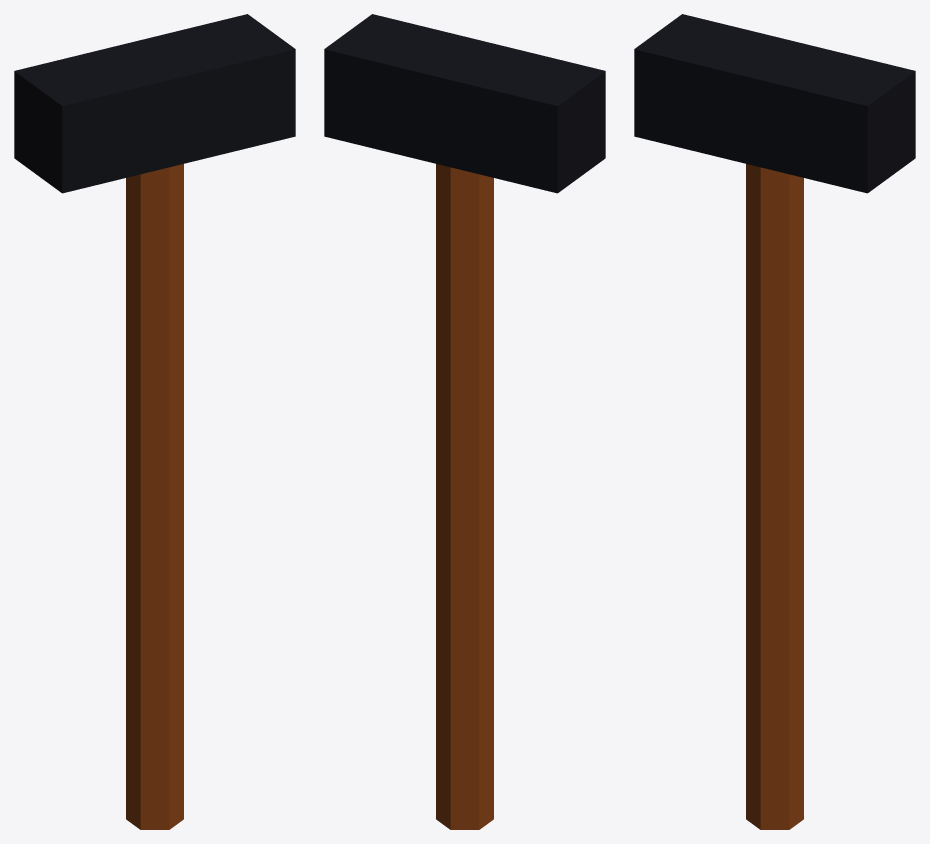
The model's file is smith_hammer.obj.
3 views of the same model, side by side, from view 1: azimuth 30°, elevation 25°; view 2: azimuth 150°, elevation 25°; view 3: azimuth 330°, elevation 25° (orthographic).
Visible parts, largest first — view 1: smith_hammer; view 2: smith_hammer; view 3: smith_hammer.
Boxes of the visible parts, left/top/right/bottom form: smith_hammer: left=14, top=14, right=295, bottom=829; smith_hammer: left=324, top=14, right=605, bottom=829; smith_hammer: left=634, top=14, right=915, bottom=829.
Bounding box in the file's own units: 0.28 × 0.87 × 0.1.
